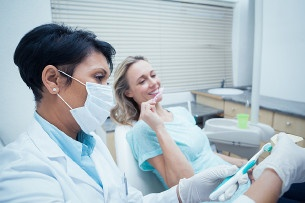Mask: (68, 64, 138, 134)
